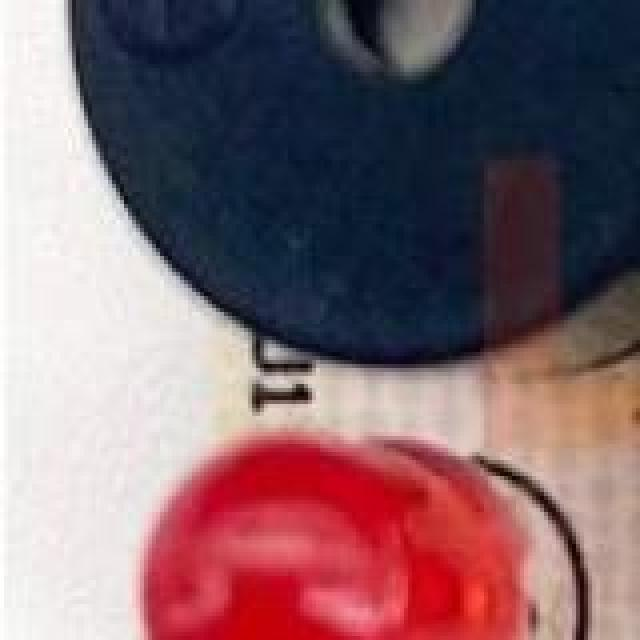LED: (80, 416, 528, 640)
buzzer: (28, 0, 640, 388)
